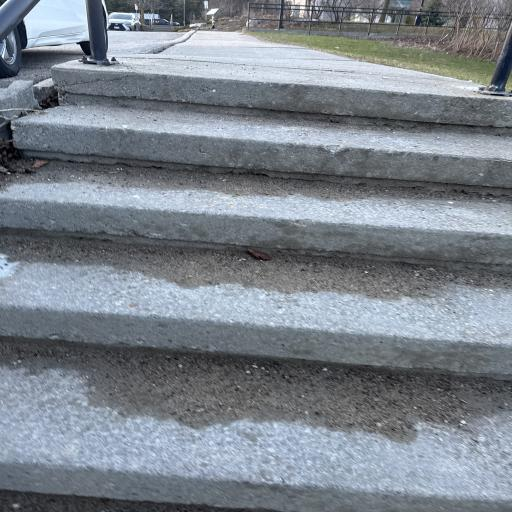Stairs: (0, 34, 512, 512)
